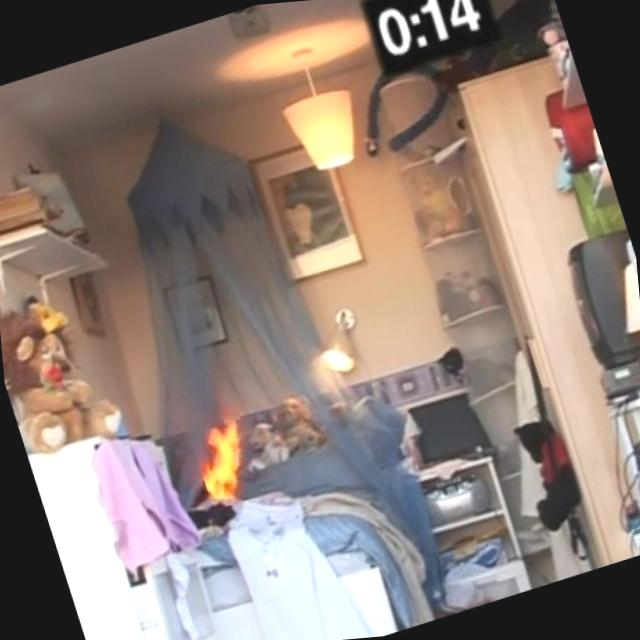fire: (160, 396, 297, 526)
